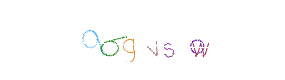6: (71, 0, 151, 80)
9: (52, 0, 132, 80)
G: (90, 0, 170, 80)
O: (125, 0, 205, 80)
S: (108, 0, 188, 80)
V: (102, 0, 182, 80)
W: (151, 0, 231, 80)
